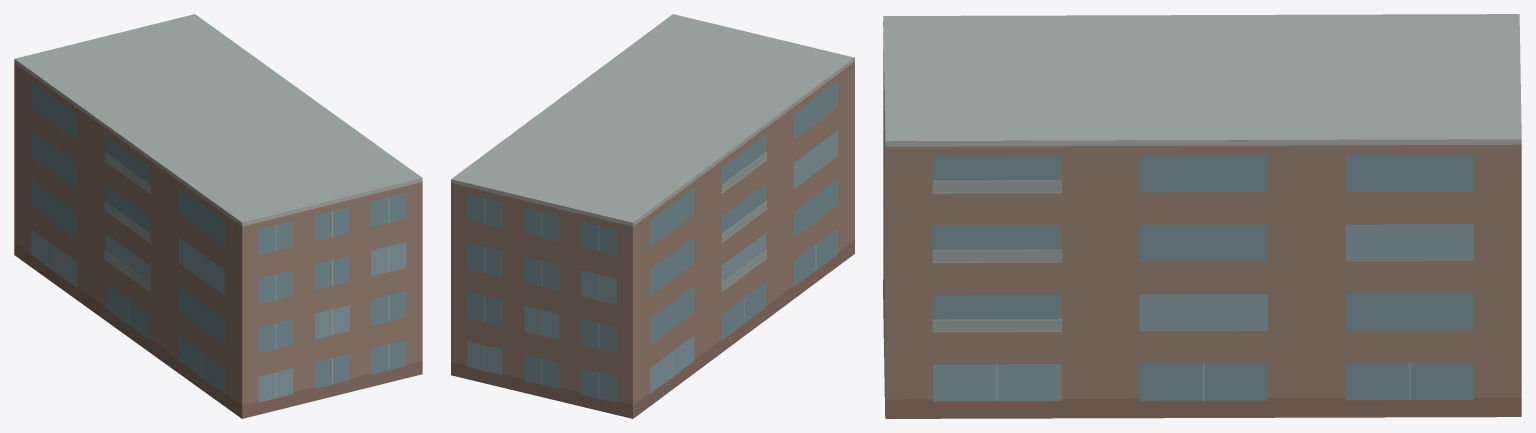
The model's file is survey-upis-32775102.glb.
3 renders of one model, left to right at view 1: azimuth 30°, elevation 25°; view 2: azimuth 150°, elevation 25°; view 3: azimuth 270°, elevation 25°, orthographic. The views are drawn at different scales.
Parts seen in each view (by area): view 1: survey-upis-32775102.tmp; view 2: survey-upis-32775102.tmp; view 3: survey-upis-32775102.tmp.
Part boxes in pixels (x1,y1,x2,y2): survey-upis-32775102.tmp: (14,14,422,418); survey-upis-32775102.tmp: (451,14,854,418); survey-upis-32775102.tmp: (883,14,1521,418).
Size of the model in its own units: 12.01 by 12.2 by 25.43.
